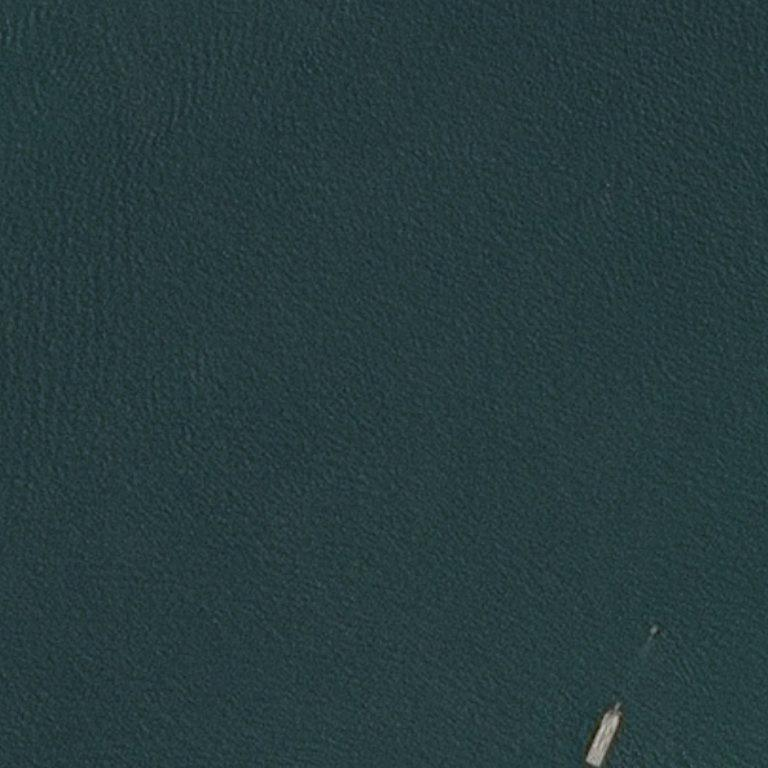ship: (581, 700, 627, 768), (651, 614, 659, 630), (616, 708, 619, 711), (656, 625, 658, 628), (648, 631, 650, 633), (598, 763, 599, 766), (655, 619, 655, 620), (583, 759, 585, 759)
